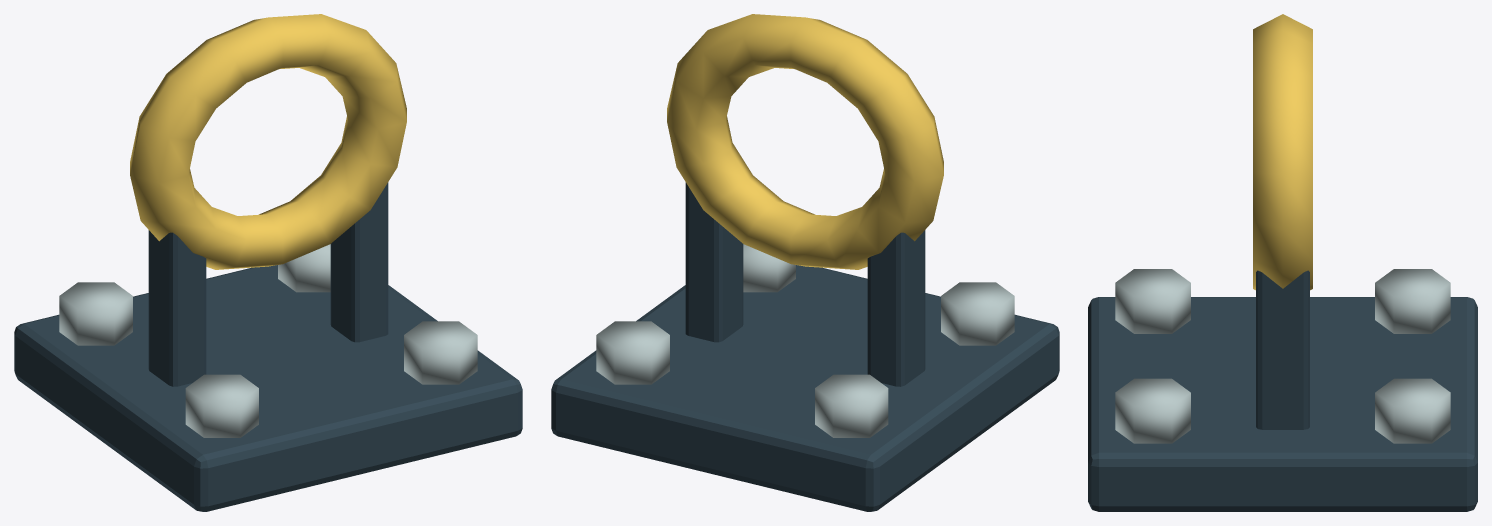
The model's file is bridge-mount.glb.
3 renders of one model, left to right at view 1: azimuth 30°, elevation 25°; view 2: azimuth 150°, elevation 25°; view 3: azimuth 270°, elevation 25°, orthographic. The views are drawn at different scales.
Visible parts, largest first — view 1: tyaga-bridge-mount-surface; view 2: tyaga-bridge-mount-surface; view 3: tyaga-bridge-mount-surface.
Boxes of the visible parts, left/top/right/bottom form: tyaga-bridge-mount-surface: left=14, top=14, right=522, bottom=511; tyaga-bridge-mount-surface: left=551, top=14, right=1059, bottom=511; tyaga-bridge-mount-surface: left=1088, top=14, right=1477, bottom=511.
Size of the model in its own units: 0.36 by 0.4108 by 0.36.
